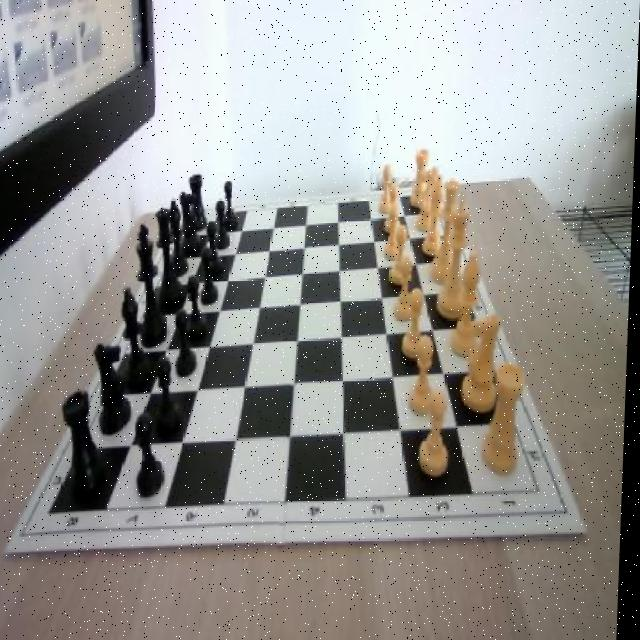bishop: (121, 286, 156, 385), (167, 197, 191, 274)
black-bishop: (135, 223, 175, 346)
black-king: (94, 343, 138, 435), (178, 189, 205, 253)
black-knight: (137, 411, 170, 498), (158, 354, 186, 439), (187, 274, 212, 344), (177, 309, 200, 377), (202, 248, 222, 305), (207, 223, 226, 279), (223, 182, 241, 233), (215, 200, 233, 248)
black-pawn: (154, 208, 188, 308)
black-queen: (64, 390, 110, 504), (190, 174, 210, 231)
black-rook: (454, 252, 487, 357), (423, 175, 447, 254)
white-bishop: (440, 188, 475, 317)
white-king: (462, 310, 504, 414), (417, 164, 443, 234)
white-knight: (421, 391, 456, 480), (409, 335, 441, 418), (404, 286, 432, 358), (396, 255, 417, 320), (390, 226, 412, 287), (384, 204, 405, 260), (386, 182, 402, 234), (381, 163, 395, 213)
white-pawn: (431, 182, 461, 286)
white-queen: (485, 363, 529, 475), (411, 149, 431, 209)
